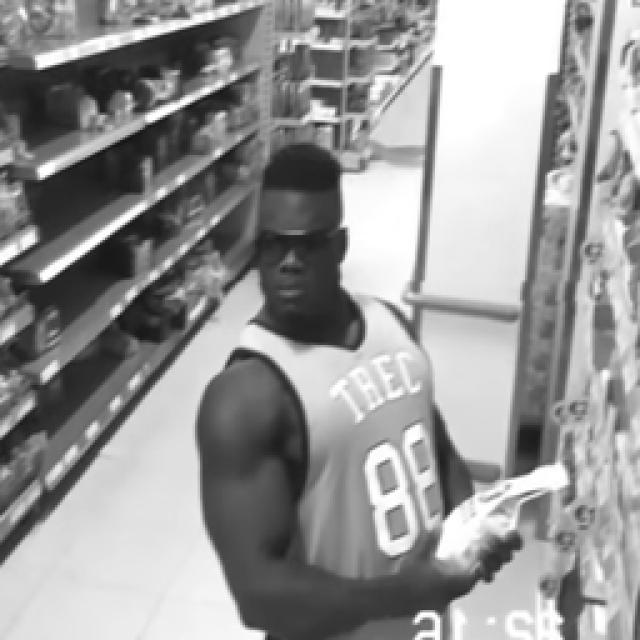Invader: (192, 140, 528, 638)
